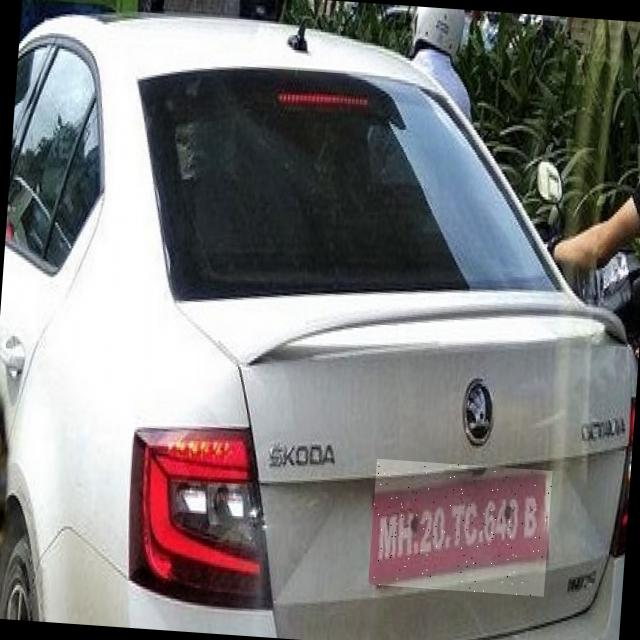Plate: (369, 460, 553, 598)
